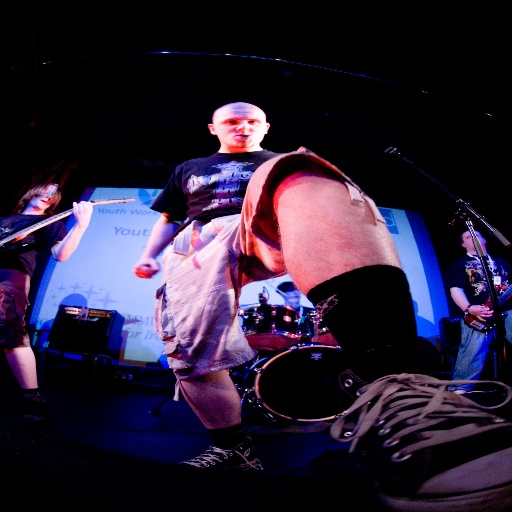hand: (467, 303, 496, 325), (69, 199, 94, 221), (133, 257, 159, 278)
